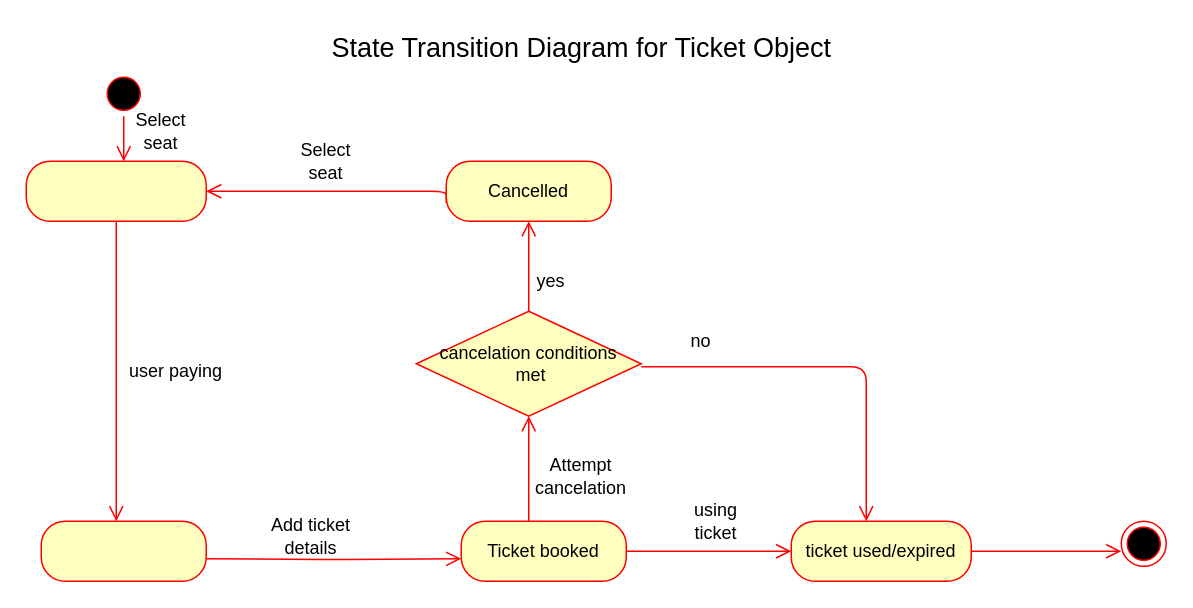
The diagram is 1193 pixels wide and 608 high, and some of its shapes have lost their labels. The shapes that lost their labels are listed below. From the top down, each one's centre as x and y in pixels, then its label:
At [115,190]: "Open".
At [123,550]: "paid".
